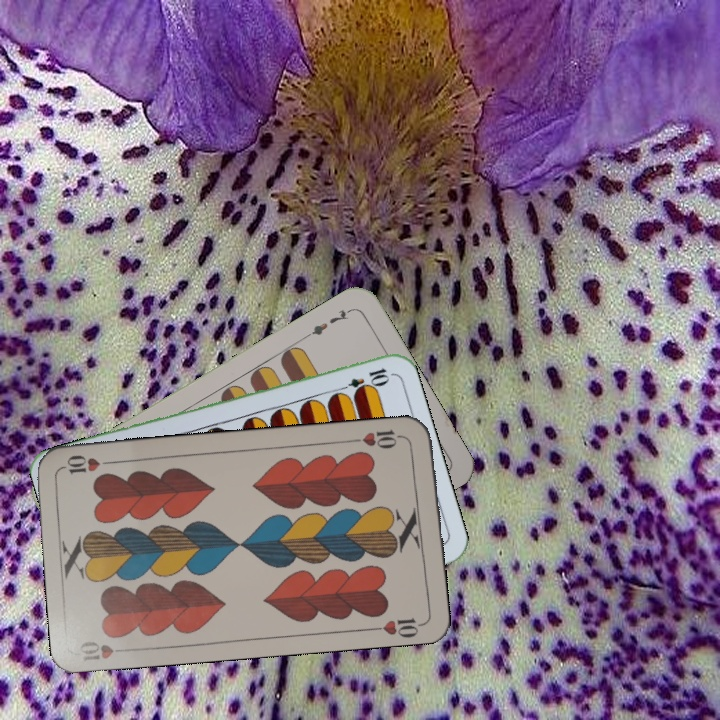E10: (333, 364, 392, 396)
E7: (301, 304, 355, 341)
H10: (349, 425, 408, 452), (76, 637, 135, 664)
